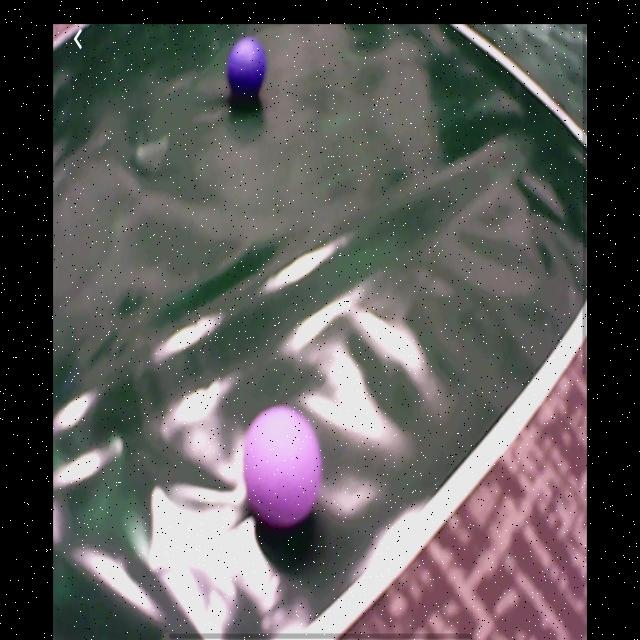ball: (244, 405, 324, 529), (228, 33, 266, 92)
